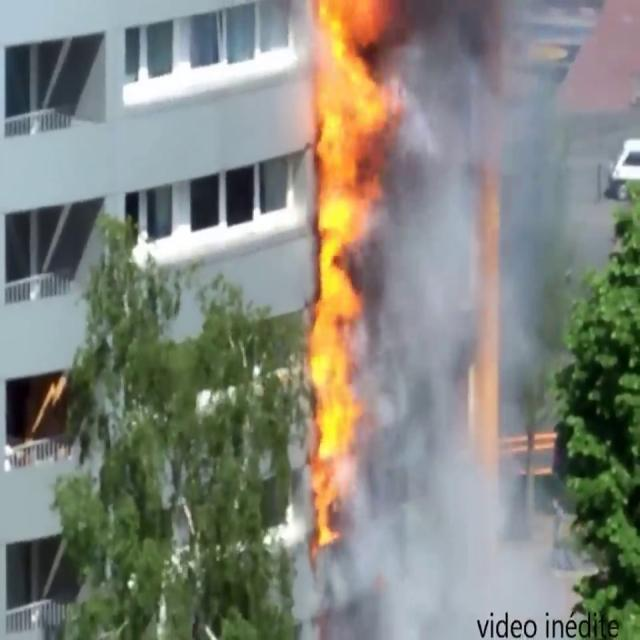Fire: (296, 0, 402, 548)
Smoke: (344, 0, 578, 639)
